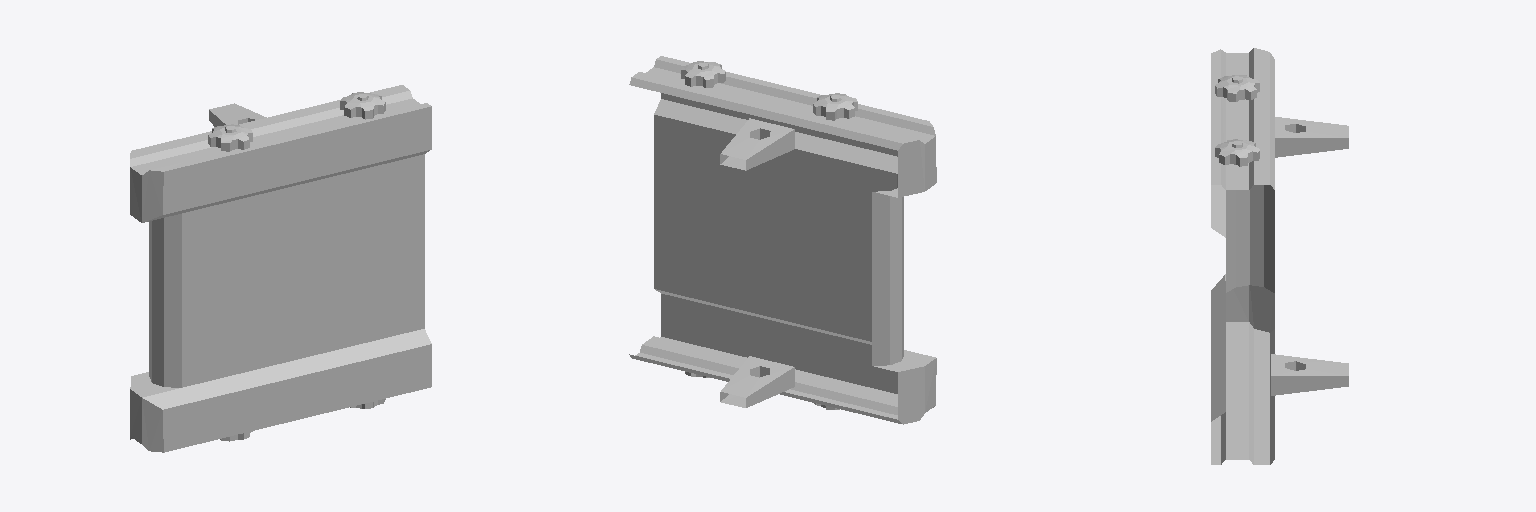
The picture shows the model from 3 angles: view 1: azimuth 30°, elevation 25°; view 2: azimuth 150°, elevation 25°; view 3: azimuth 270°, elevation 25°; orthographic projection.
Visible parts, largest first — view 1: object_1, rdmobj00; view 2: object_1, rdmobj00; view 3: rdmobj00, object_1.
Part boxes in pixels (bbox=[...]): object_1: bbox=[149, 154, 424, 387]; rdmobj00: bbox=[130, 85, 431, 452]; object_1: bbox=[654, 115, 903, 365]; rdmobj00: bbox=[629, 56, 936, 424]; rdmobj00: bbox=[1211, 48, 1348, 464]; object_1: bbox=[1226, 185, 1274, 292].
Size of the model in its own units: 50.1 by 52.44 by 21.22.